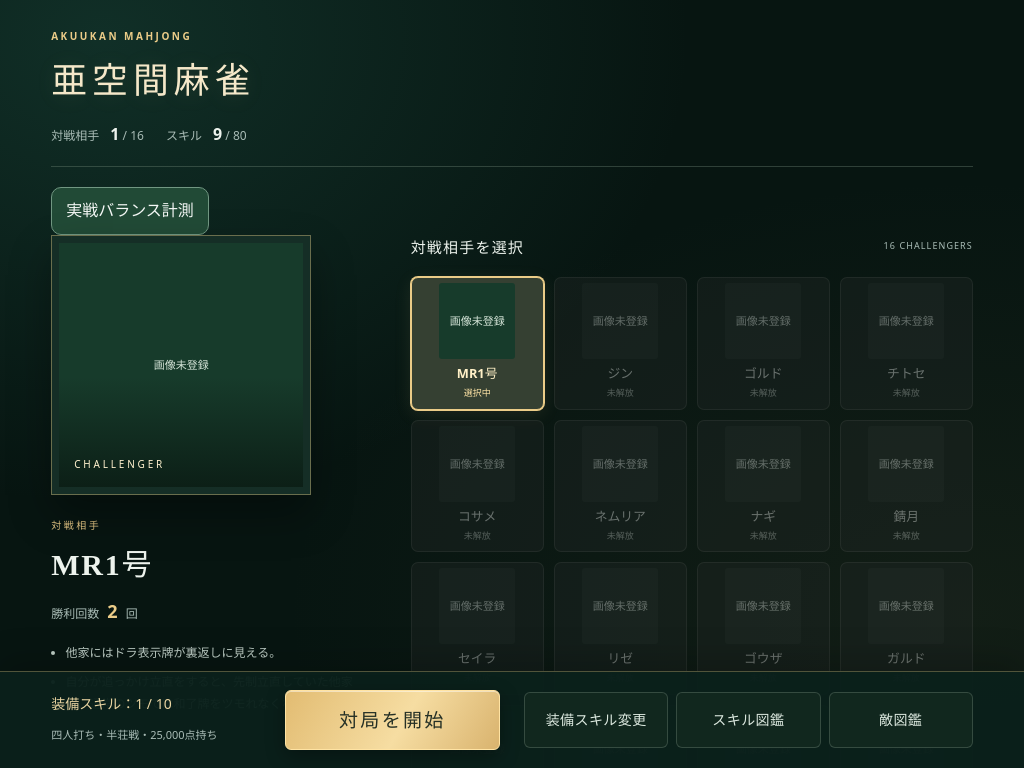
Test case: 実際の結果画面でも保存失敗中は再開を止め、再試行できる
What coordinates should you click on to do the following:
click the button "対局を開始"
I would click on:
 (392, 720)
Its box is [285,690,500,750].
(page scrolled)
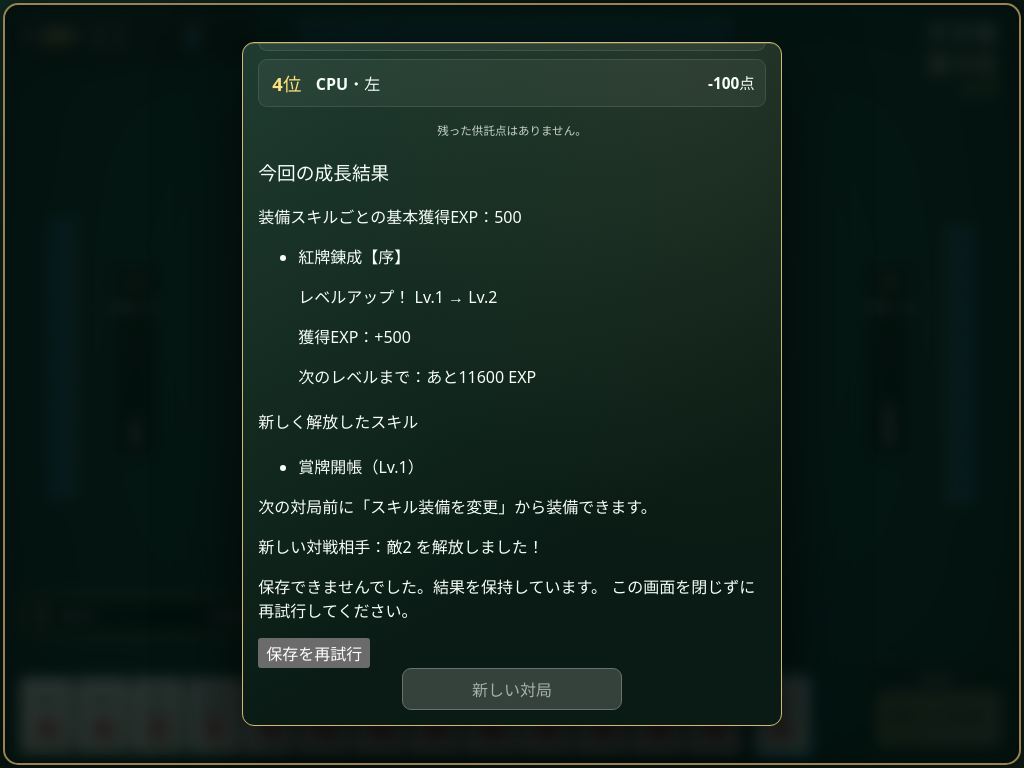
What coordinates should you click on to do the following:
click the button "保存を再試行"
I would click on:
 (314, 653)
Its box is [258,638,370,668].
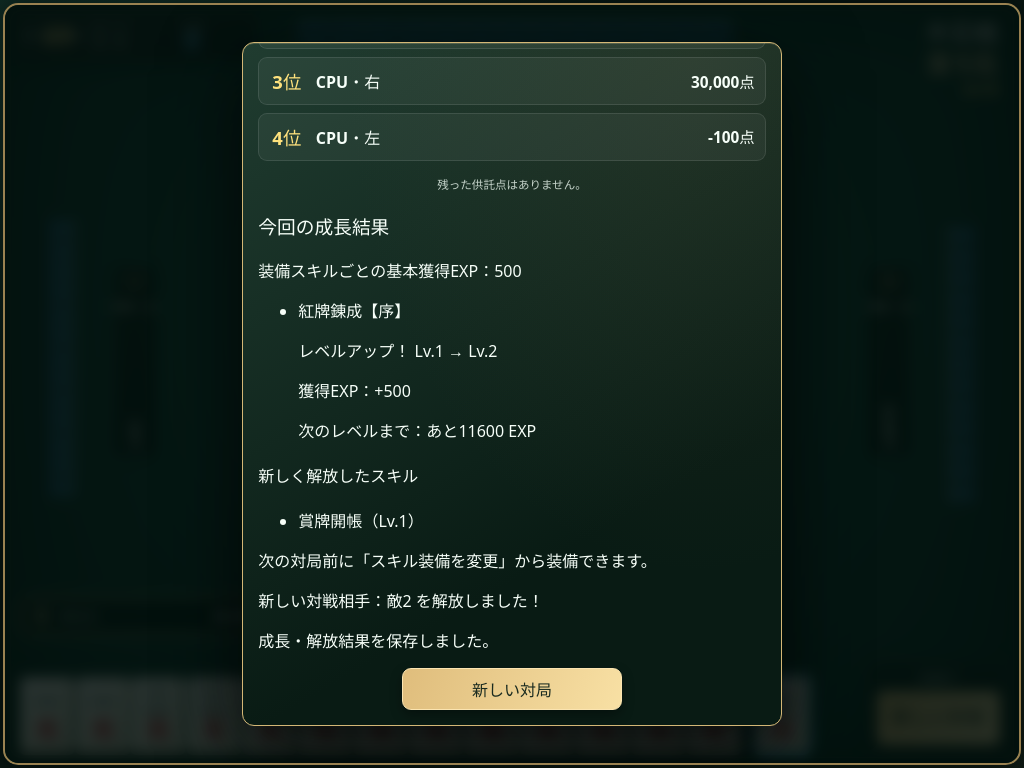
Expected: the text "成長・解放結果を保存しました。" is shown, [258,630,498,652]
